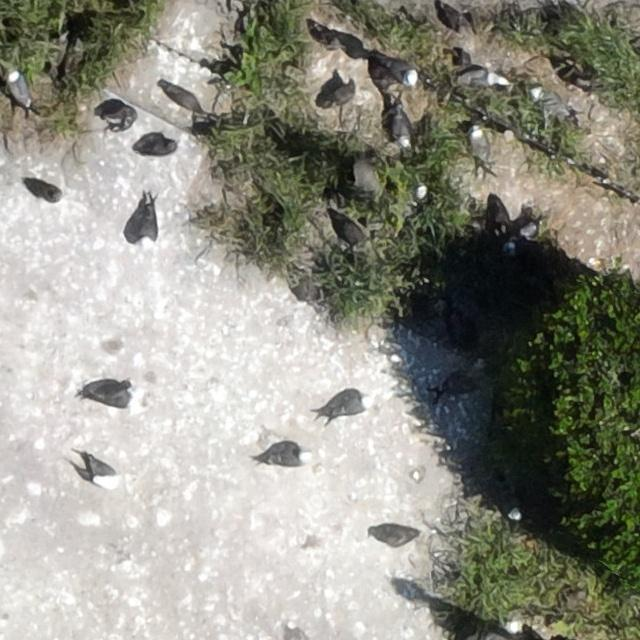umineko: (84, 453, 126, 491), (92, 387, 134, 407), (328, 397, 369, 416), (28, 184, 65, 204), (390, 61, 418, 84), (12, 74, 31, 106), (459, 69, 496, 85), (393, 112, 410, 145), (470, 127, 486, 157), (273, 450, 305, 465), (506, 498, 522, 521), (415, 185, 427, 204)
